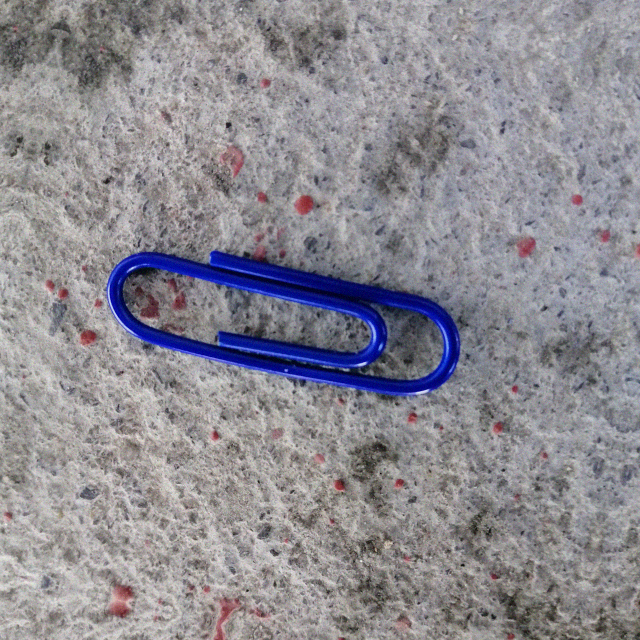pin: (103, 232, 463, 412)
